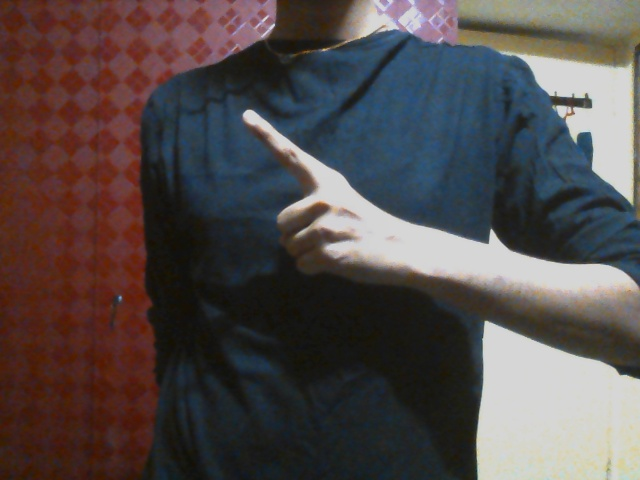I: (240, 108, 406, 287)
